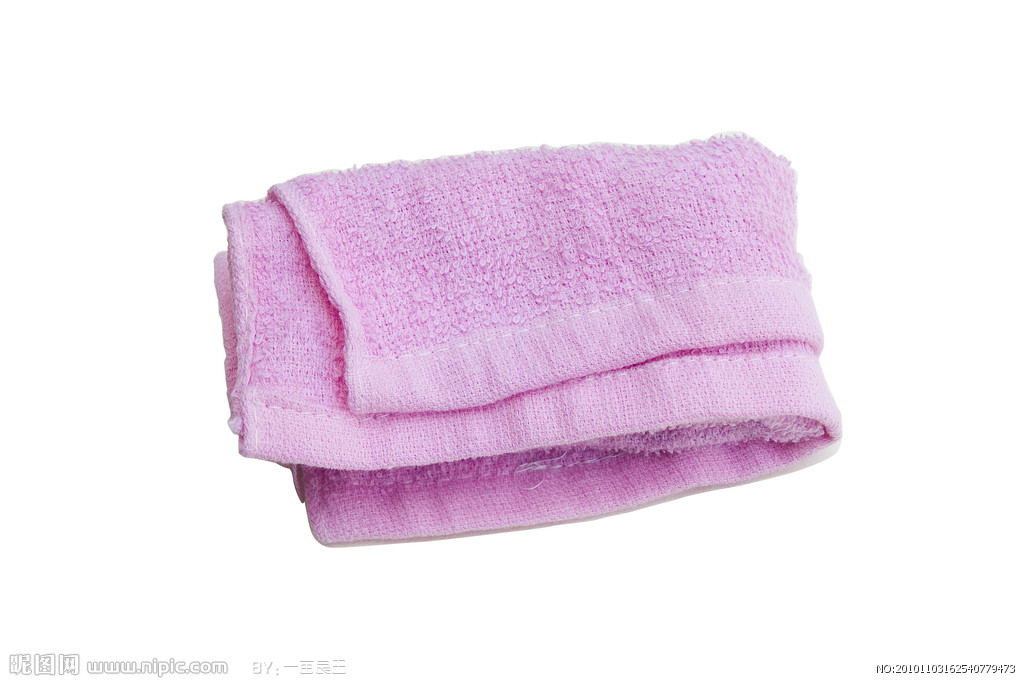flexible: (203, 128, 844, 548)
